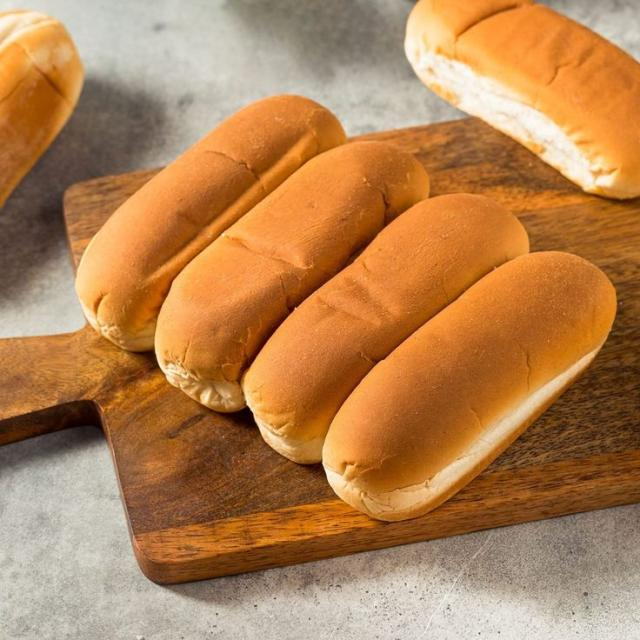bread: (323, 253, 615, 520), (243, 194, 528, 463), (156, 141, 428, 411), (76, 96, 346, 351), (406, 0, 639, 198), (0, 12, 83, 206)
